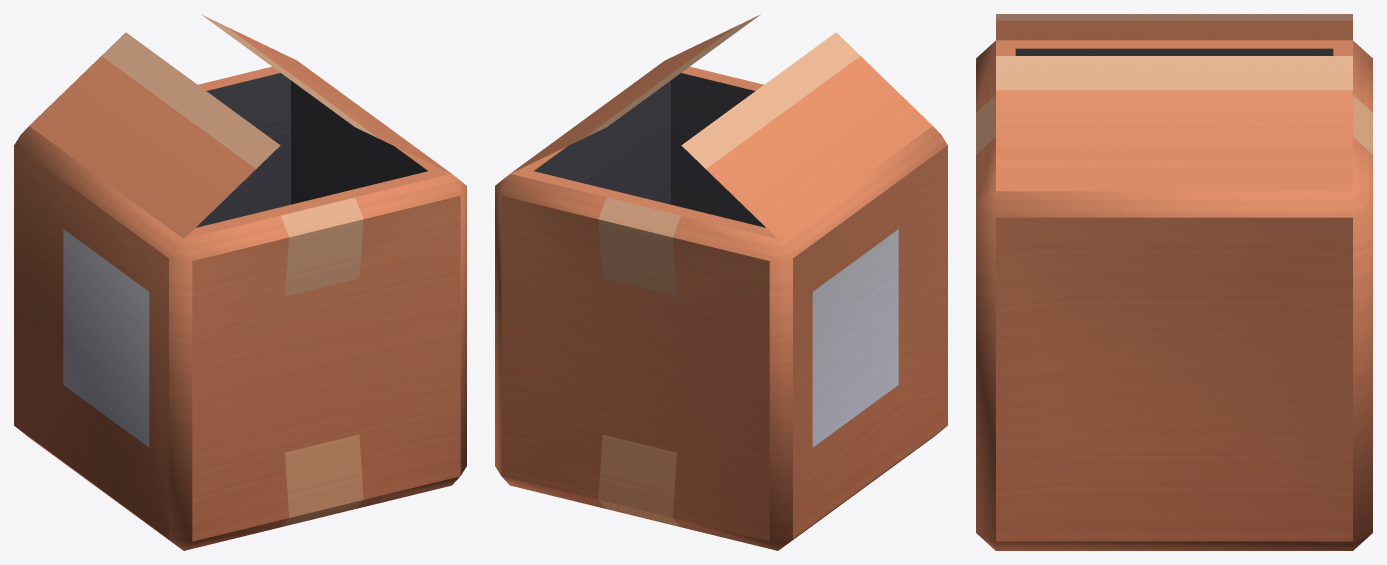
The model's file is box-open.glb.
3 renders of one model, left to right at view 1: azimuth 30°, elevation 25°; view 2: azimuth 150°, elevation 25°; view 3: azimuth 270°, elevation 25°, orthographic. The views are drawn at different scales.
Visible parts, largest first — view 1: box-open; view 2: box-open; view 3: box-open.
Part boxes in pixels (x1=…): box-open: x1=14, y1=14, x2=466, y2=550; box-open: x1=495, y1=14, x2=947, y2=550; box-open: x1=976, y1=14, x2=1372, y2=550.
Bounding box in the file's own units: 0.25 × 0.3063 × 0.25.
1 material, 1 textured.
